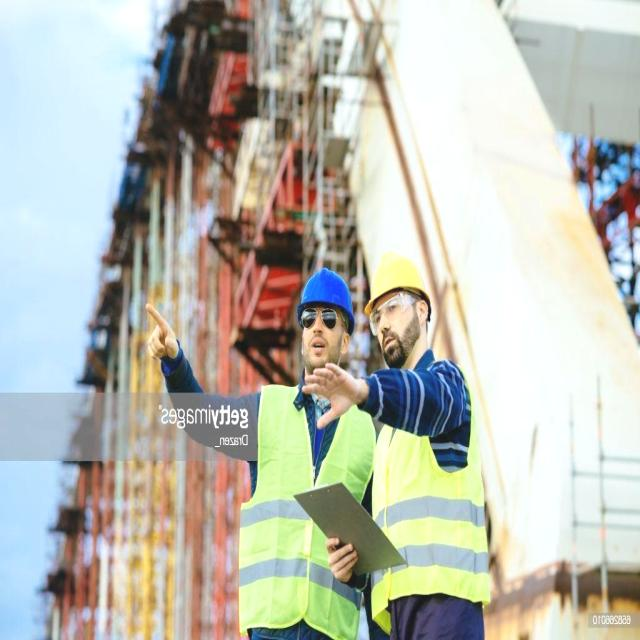face_nomask: (376, 292, 426, 368), (293, 308, 349, 374)
glasses: (370, 289, 409, 337), (299, 306, 339, 336)
hand_noglove: (299, 365, 362, 431), (141, 299, 180, 366), (324, 530, 360, 588)
head_helmet: (366, 251, 438, 309), (299, 273, 353, 309)
person: (233, 274, 365, 628), (372, 250, 468, 640)
vest: (245, 401, 368, 625), (375, 371, 469, 600)
